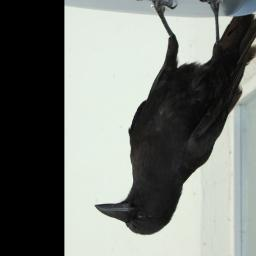Crow: (92, 0, 256, 236)
